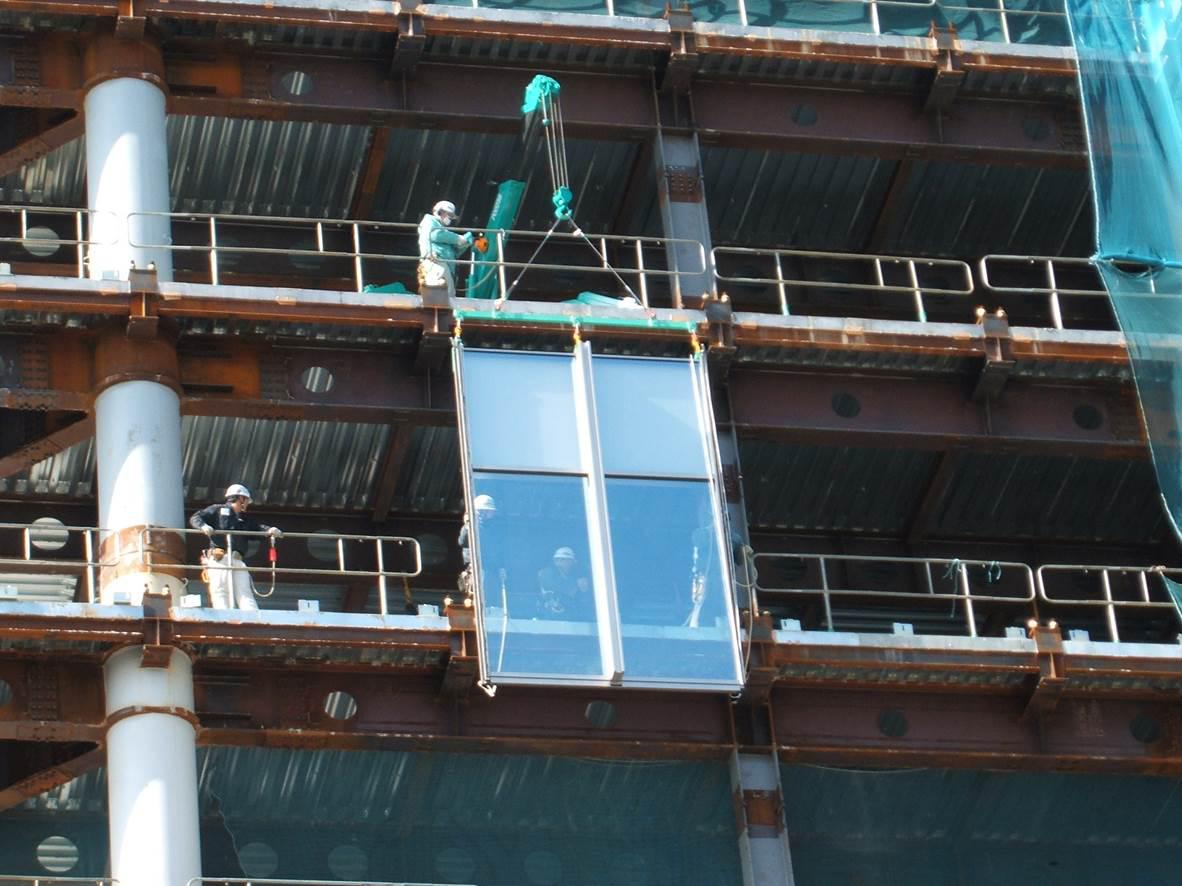glass panel: (606, 478, 739, 684), (473, 473, 604, 679), (463, 351, 580, 470), (592, 357, 708, 477)
